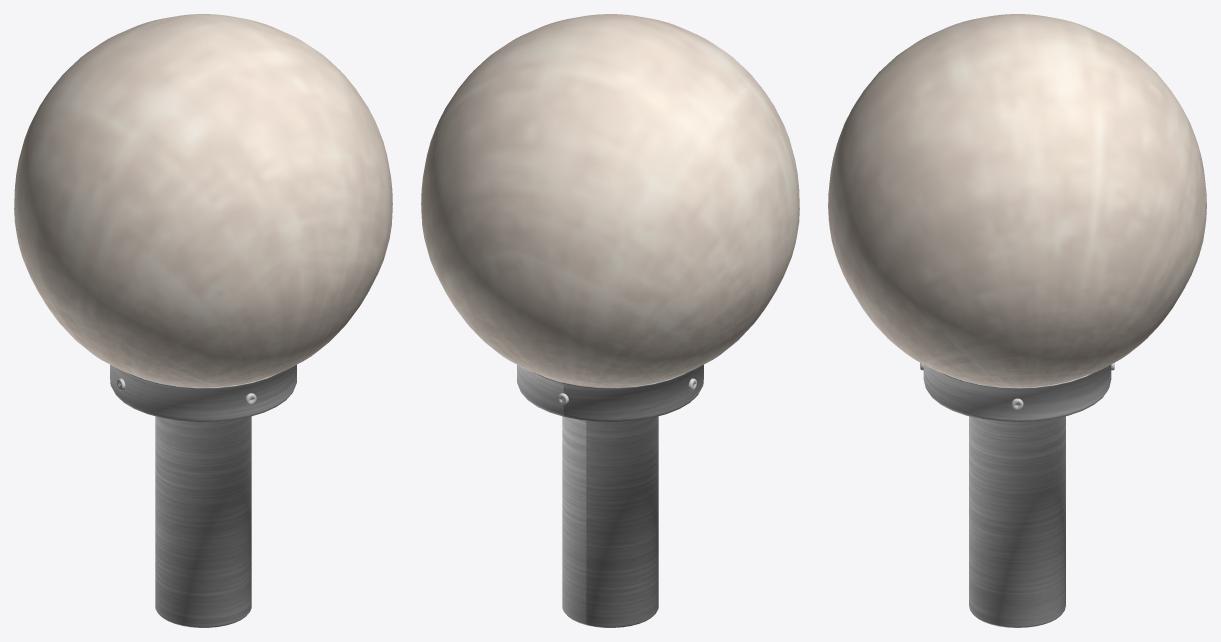
Rendered from lampara.obj.
3 views of the same model, side by side, from view 1: azimuth 30°, elevation 25°; view 2: azimuth 150°, elevation 25°; view 3: azimuth 270°, elevation 25° (orthographic).
Visible parts, largest first — view 1: Foco; view 2: Foco; view 3: Foco.
Boxes of the visible parts, bbox=[...] form: Foco: bbox=[14, 14, 392, 627]; Foco: bbox=[421, 14, 799, 627]; Foco: bbox=[828, 14, 1206, 627].
Size of the model in its own units: 5.44 by 9.18 by 5.44.
1 material, 1 textured.
